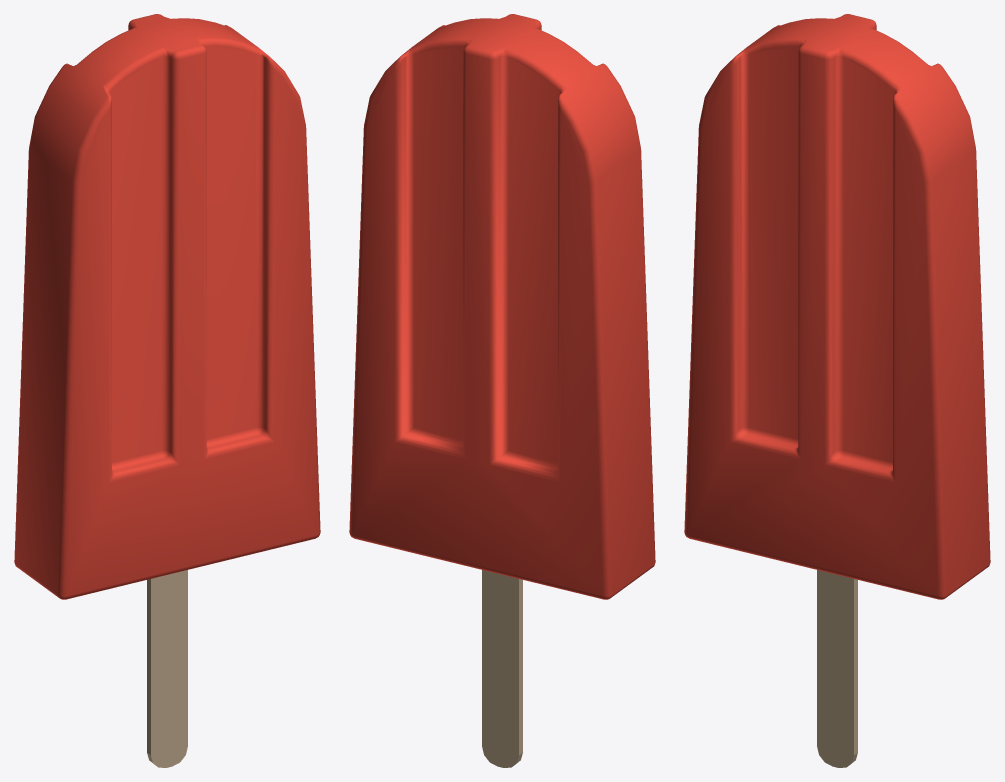
The model's file is popsicle.glb.
3 views of the same model, side by side, from view 1: azimuth 30°, elevation 25°; view 2: azimuth 150°, elevation 25°; view 3: azimuth 330°, elevation 25° (orthographic).
Visible parts, largest first — view 1: POPSICLE; view 2: POPSICLE; view 3: POPSICLE.
Boxes of the visible parts, x1,y1,x2,y2 form: POPSICLE: (14,14,320,767); POPSICLE: (349,14,655,767); POPSICLE: (684,14,990,767).
Bounding box in the file's own units: 0.0637 × 0.1702 × 0.0206.
